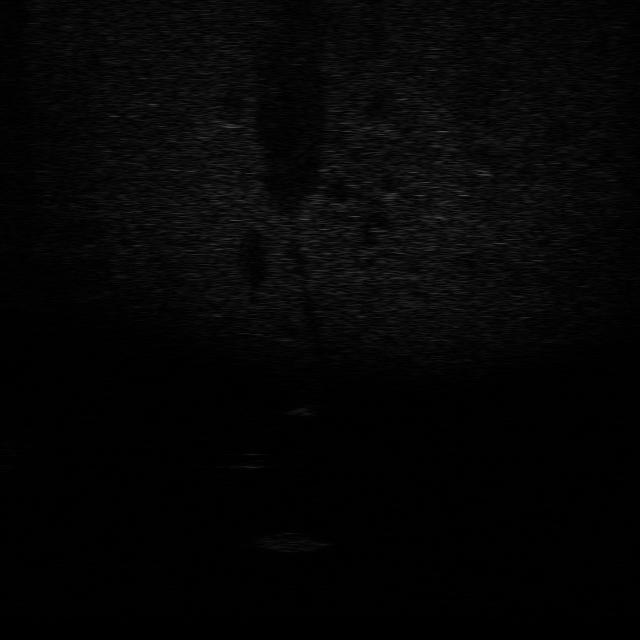ball: (228, 447, 270, 473)
circle cage: (252, 522, 332, 556)
human body: (271, 382, 330, 434)
